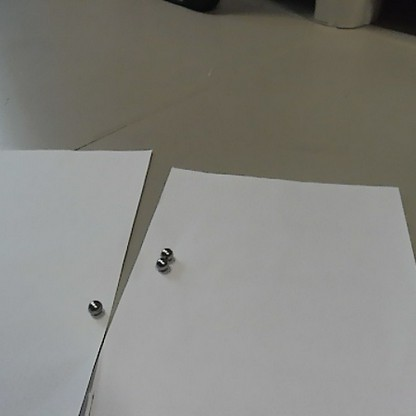ironball: (88, 298, 102, 315), (156, 258, 167, 270), (160, 247, 170, 257)
